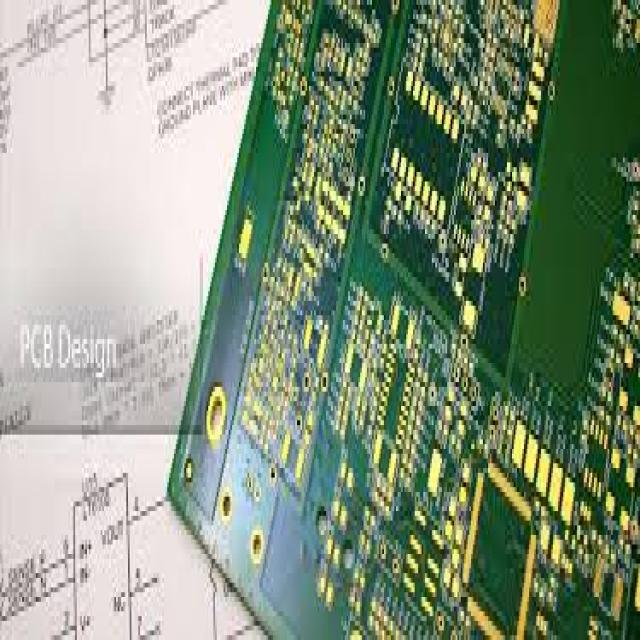pcb: (164, 0, 638, 635), (363, 0, 561, 396)
